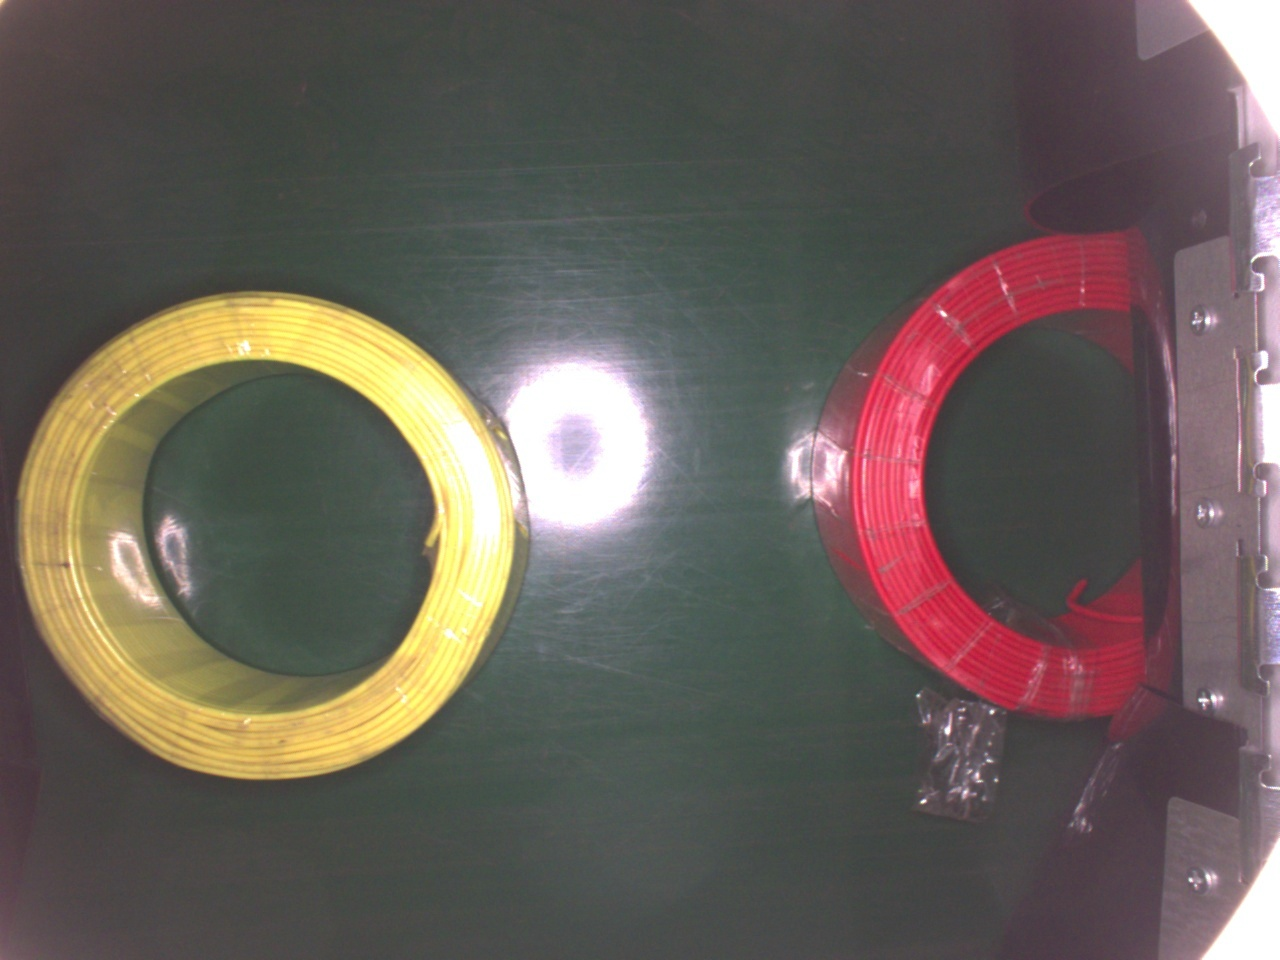red: (808, 224, 1163, 723)
yellow: (12, 287, 531, 784)
